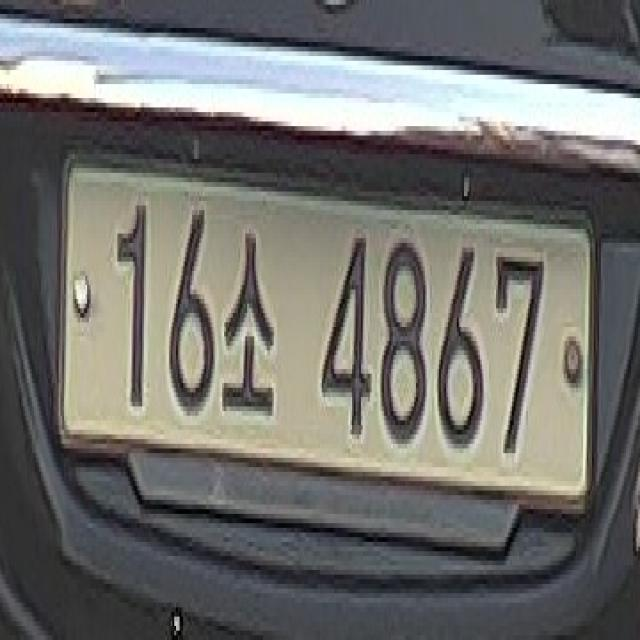1: (107, 177, 158, 430)
4: (313, 220, 375, 462)
6: (163, 192, 217, 430), (436, 233, 487, 458)
7: (491, 234, 542, 467)
8: (378, 224, 428, 453)
license_plate: (53, 140, 598, 593)
so: (219, 215, 277, 434)
